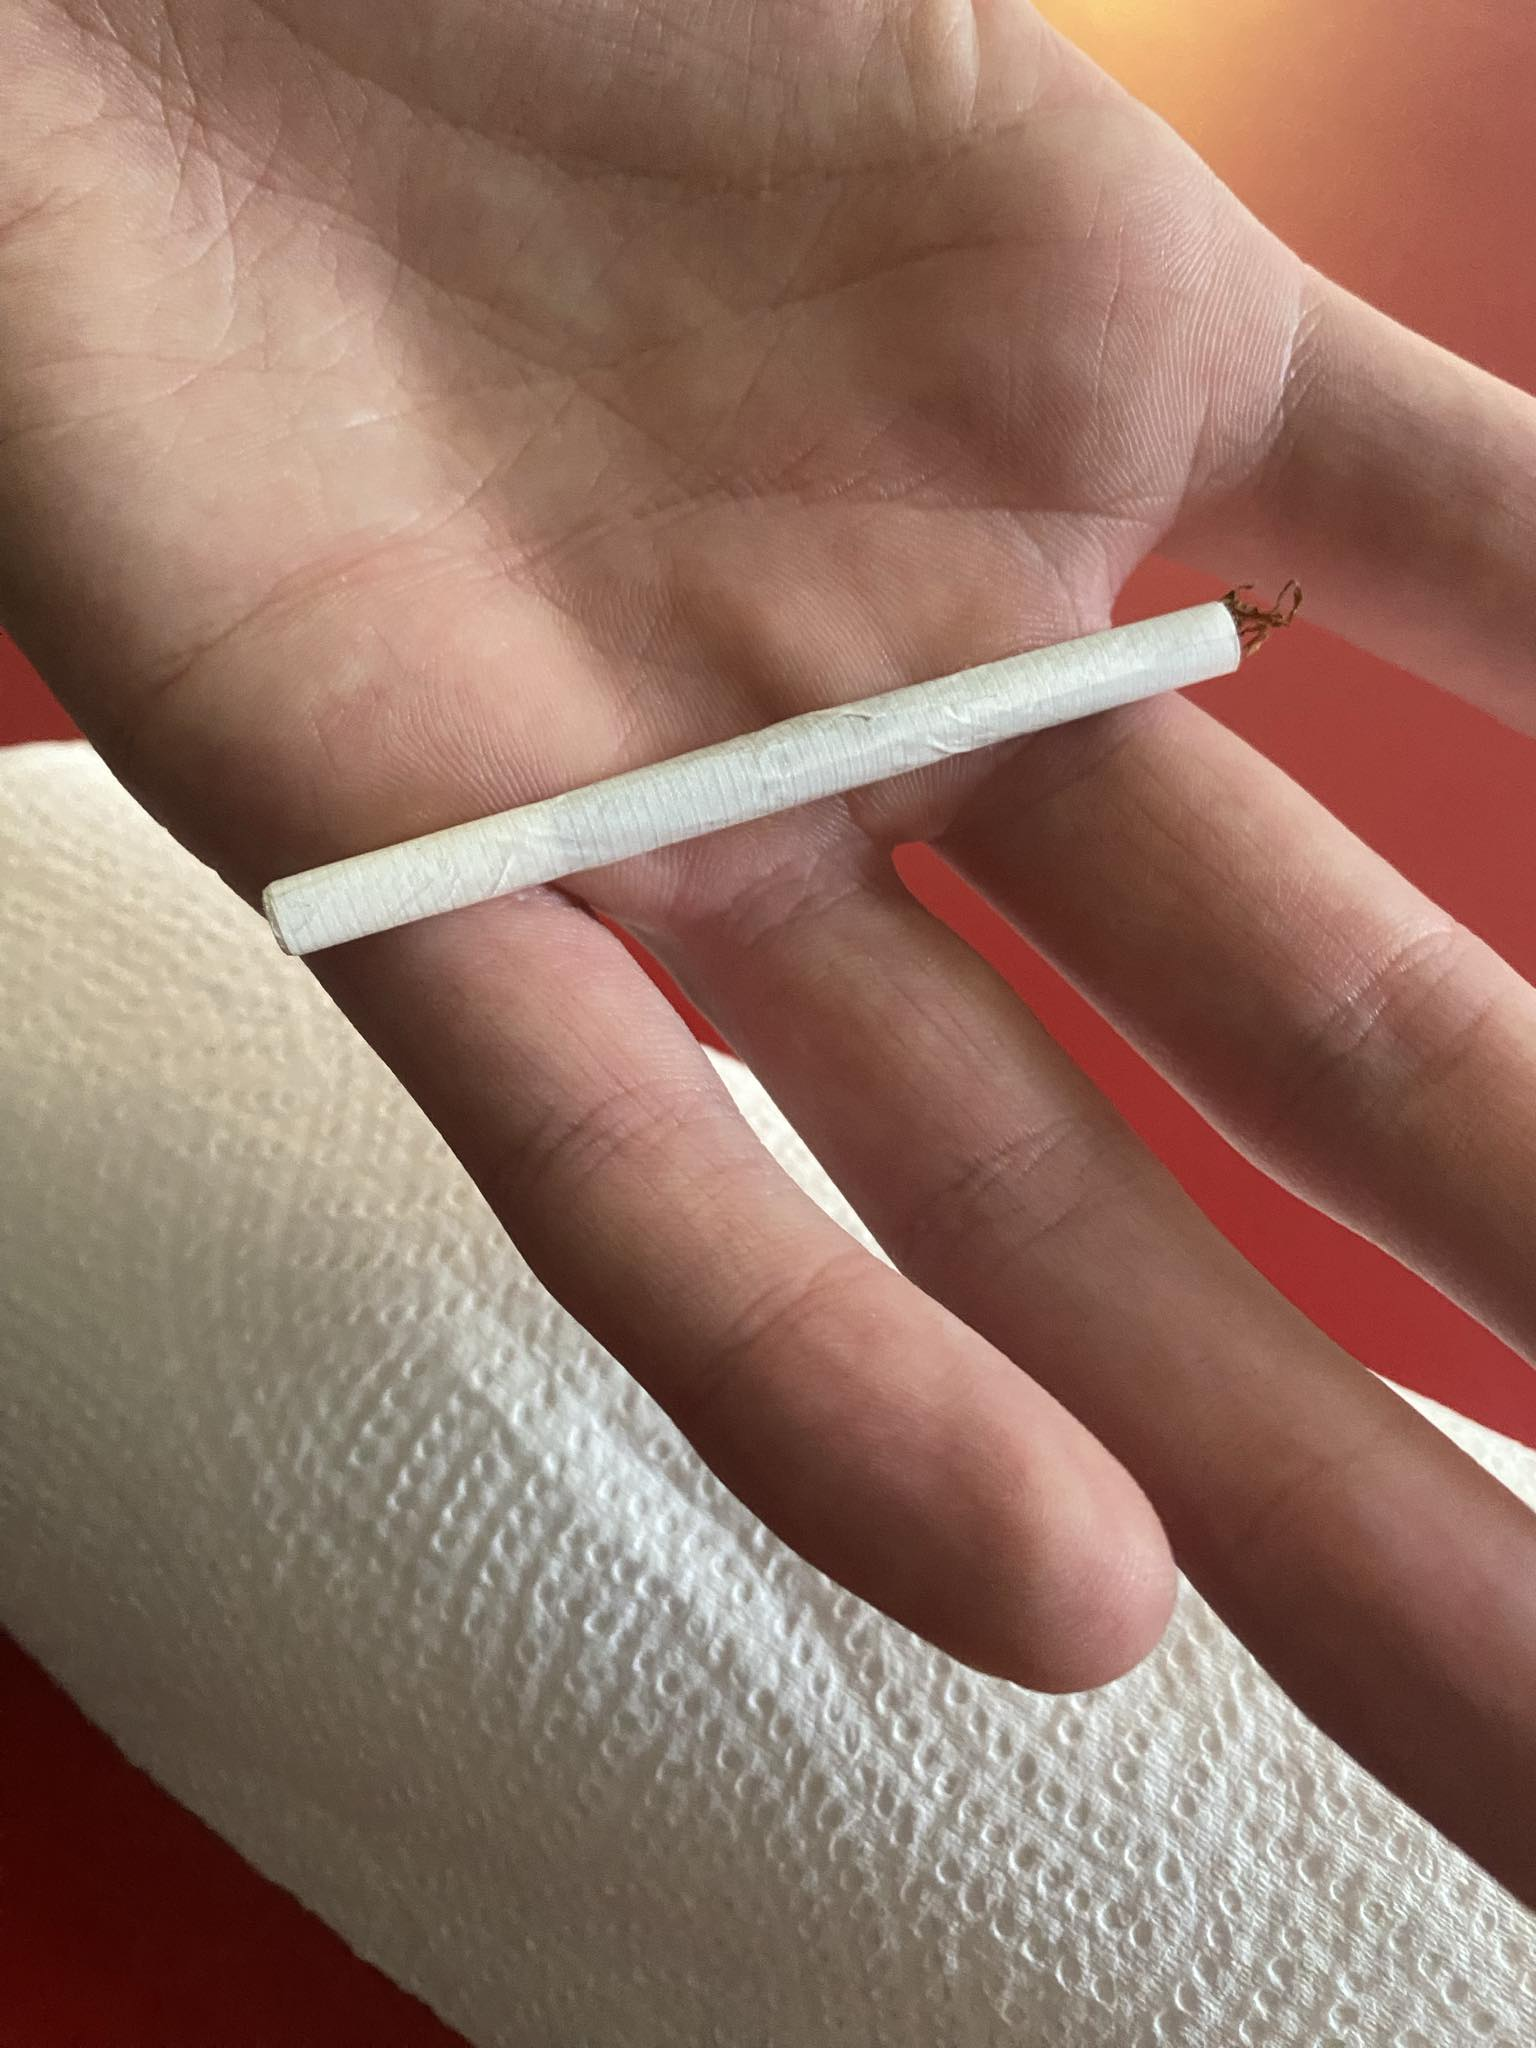Cigarette: (258, 584, 1297, 956)
